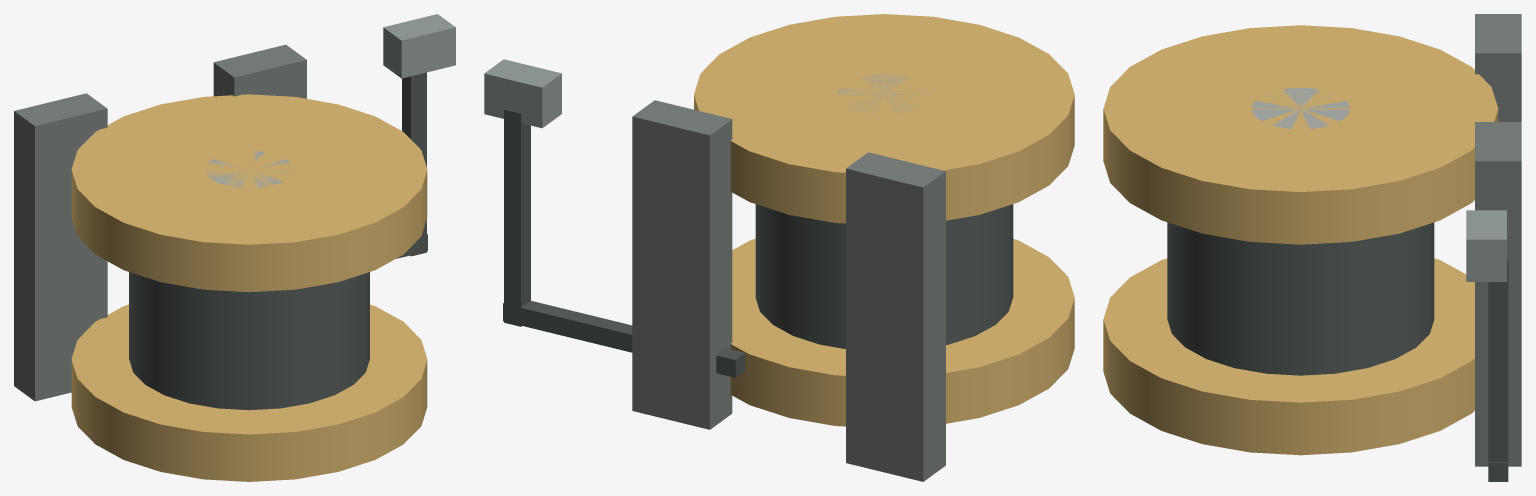
File: cable_reel.glb
The picture shows the model from 3 angles, left to right: view 1: azimuth 30°, elevation 25°; view 2: azimuth 150°, elevation 25°; view 3: azimuth 270°, elevation 25°; orthographic projection. The views are drawn at different scales.
Parts seen in each view (by area): view 1: right_flange, left_flange, cable_core, left_foot, right_foot, plug, loose_cable_b, hub; view 2: right_flange, left_foot, right_foot, left_flange, cable_core, loose_cable_b, plug, loose_cable_a, hub; view 3: right_flange, left_flange, cable_core, right_foot, left_foot, loose_cable_b, plug, hub.
Boxes of the visible parts, x1,y1,x2,y2 form: right_flange: (71, 94, 427, 292); left_flange: (71, 304, 427, 481); cable_core: (129, 272, 369, 410); left_foot: (14, 93, 107, 401); right_foot: (213, 44, 306, 98); plug: (383, 14, 455, 78); loose_cable_b: (402, 72, 426, 256); hub: (206, 151, 292, 187); right_flange: (694, 14, 1074, 223); left_foot: (846, 152, 945, 481); right_foot: (632, 100, 732, 429); left_flange: (730, 239, 1074, 426); cable_core: (755, 204, 1013, 348); loose_cable_b: (504, 109, 530, 326); plug: (484, 59, 561, 128); loose_cable_a: (503, 301, 745, 377); hub: (837, 74, 930, 113); right_flange: (1103, 25, 1498, 244); left_flange: (1103, 258, 1474, 455); cable_core: (1167, 222, 1434, 375); right_foot: (1475, 122, 1521, 466); left_foot: (1475, 14, 1521, 121); loose_cable_b: (1488, 252, 1508, 481); plug: (1466, 210, 1506, 281); hub: (1251, 88, 1349, 128).
Bounding box in the file's own units: 0.96 × 0.58 × 0.72.
